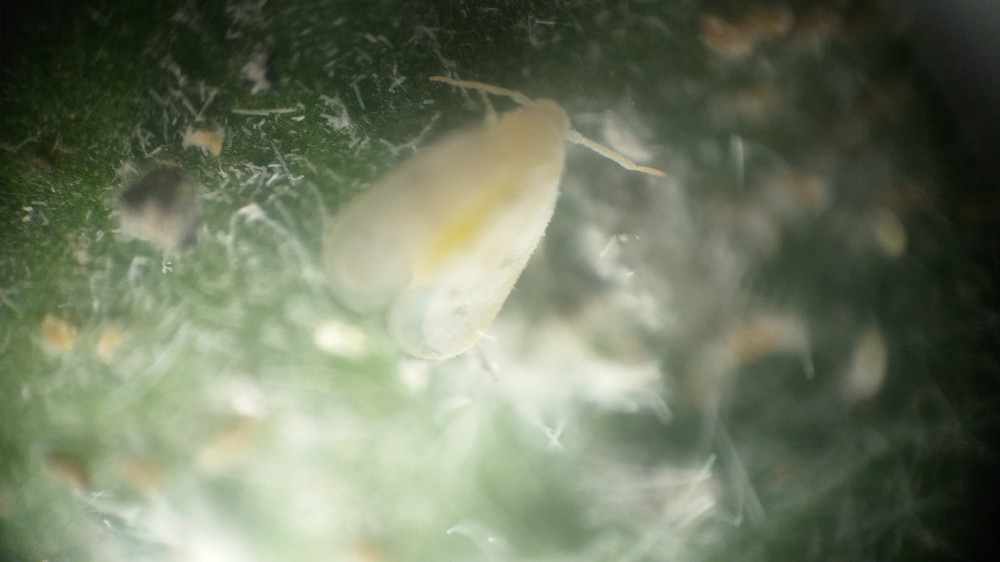Mosca Blanca: (294, 64, 700, 368)
